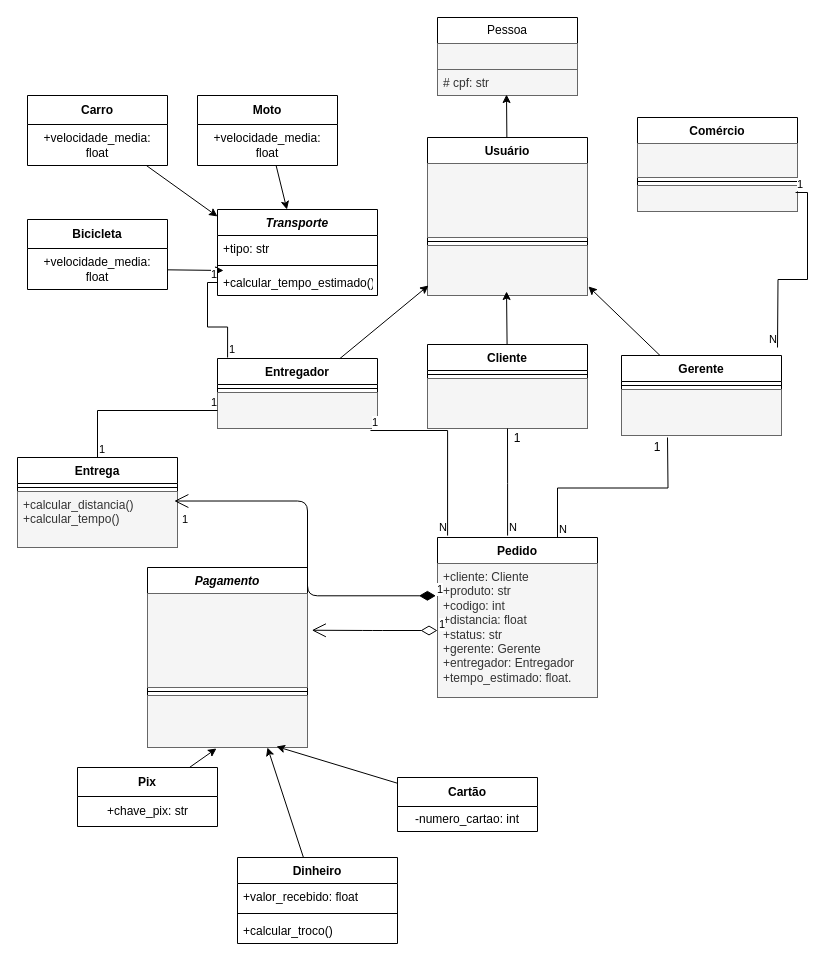
Image size: 826x964. Some labels were removed from this diagram. The centre of each missing label's shape, as x and y in pixels:
"+ cria_conta() + login() + ver_historico()" belongs at [507,270].
"+ method(type): type" belongs at [717,198].
"+ nome: str" belongs at [507,56].
"+ nome: str + email: str - senha: str # tipo: str" belongs at [507,200].
"+aceitar_pedido() +cancelar_pedido()" belongs at [701,412].
"+coletar_pedido() + fazer_entrega()" belongs at [297,410].
"+confirmar_pagamento() +recusar_pagamento() +gerar_recibo()" belongs at [227,721].
"+fazer_pedido() +cancelar_pedido()" belongs at [507,403].
"+metodo: str +status: enum +valor: float +data: str +entrega: bool" belongs at [227,640].
"+nome: str +endereco: str" belongs at [717,160].
